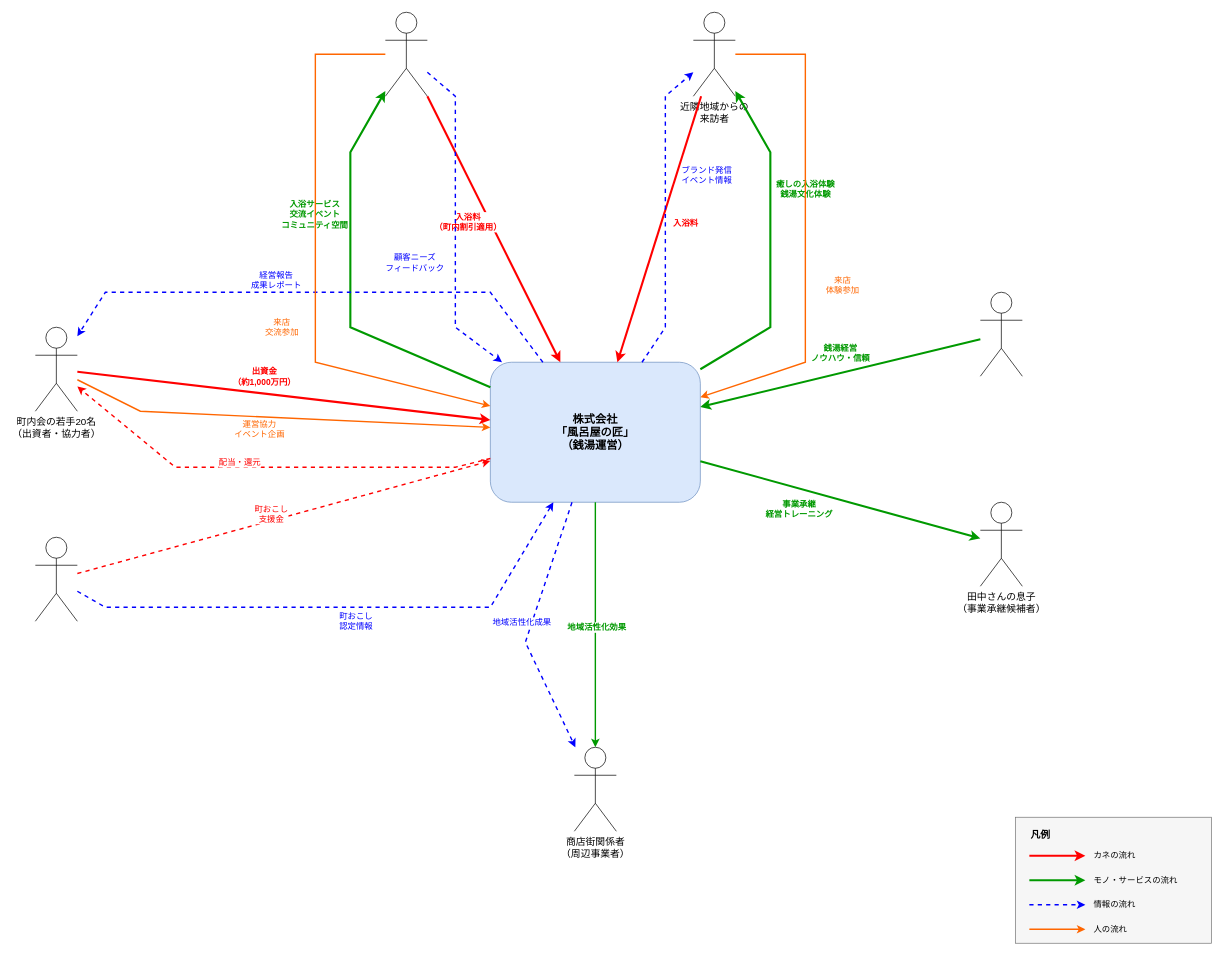
Image size: 1224x956. Some labels were removed from this diagram. The shapes that lost their labels are listed below. From the top down, each one's box as (x1, y1, x2, y2) in pixels, then its label:
(385, 12, 427, 96): 地元町内の住民
(980, 292, 1022, 376): 田中さん （創業者・代表者）
(35, 537, 77, 621): 地方自治体
